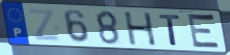6: (63, 9, 90, 44)
8: (96, 10, 122, 46)
E: (186, 12, 223, 51)
H: (122, 11, 159, 47)
T: (158, 13, 183, 47)
Z: (26, 8, 63, 43)
